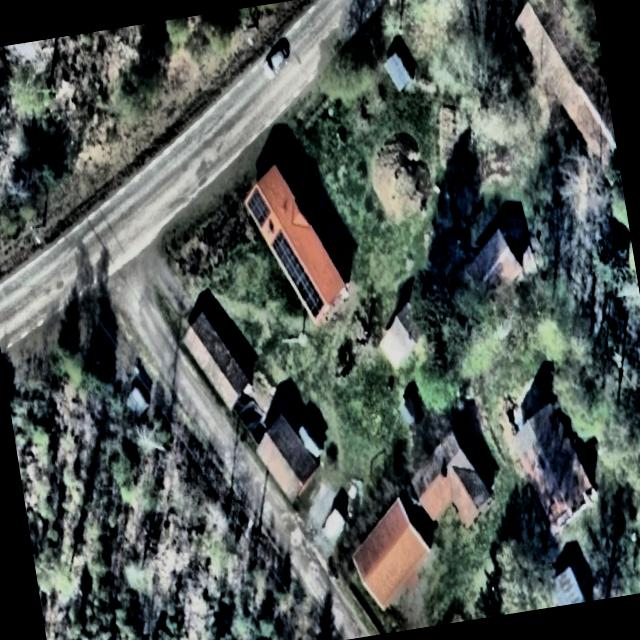roof_pv: (286, 254, 326, 323), (269, 223, 300, 270), (244, 188, 274, 230)
